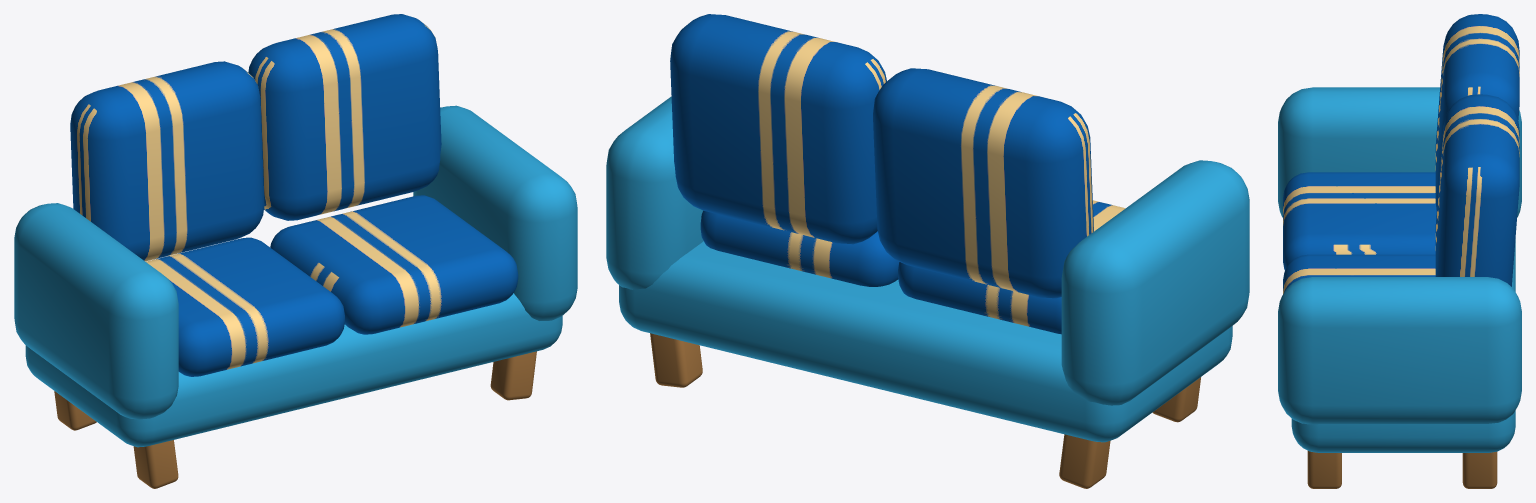
File: easy_couch_02.fbx
The picture shows the model from 3 angles, left to right: view 1: azimuth 30°, elevation 25°; view 2: azimuth 150°, elevation 25°; view 3: azimuth 270°, elevation 25°; orthographic projection. The views are drawn at different scales.
Visible parts, largest first — view 1: EC02_LOD0; view 2: EC02_LOD0; view 3: EC02_LOD0.
Part boxes in pixels (box(x1,y1,x2,y2)): EC02_LOD0: box(14, 14, 577, 488); EC02_LOD0: box(606, 14, 1249, 488); EC02_LOD0: box(1278, 14, 1521, 488).
Size of what is drawn, in the model's own units: 2.12 by 1.42 by 0.99.
Materials: 3 (1 with a texture image).
